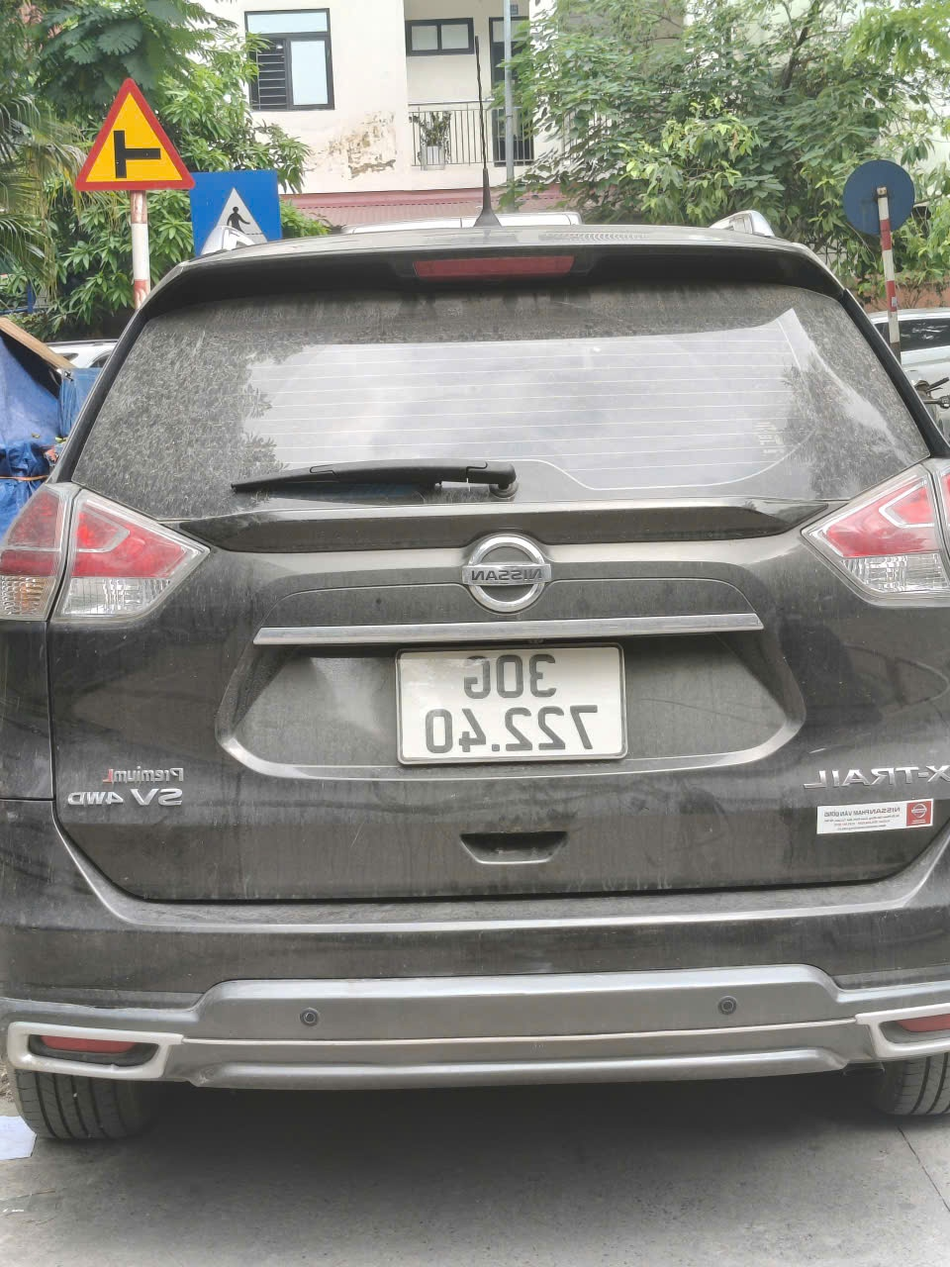plate: (310, 197, 489, 229)
